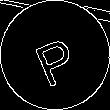P_NW: (28, 25, 82, 85)
